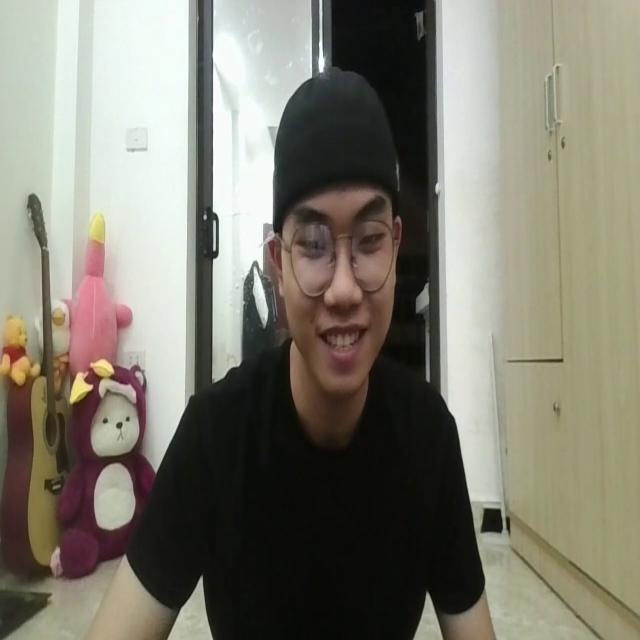student: (96, 62, 496, 640)
